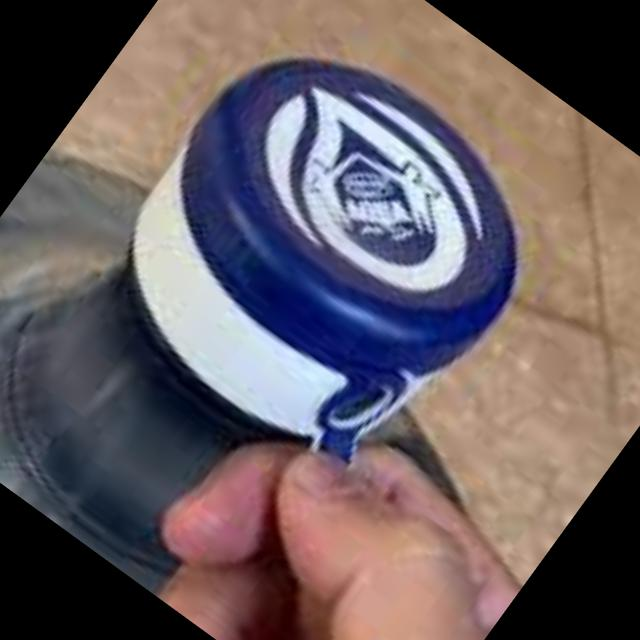TutupGalon: (36, 0, 613, 534)
